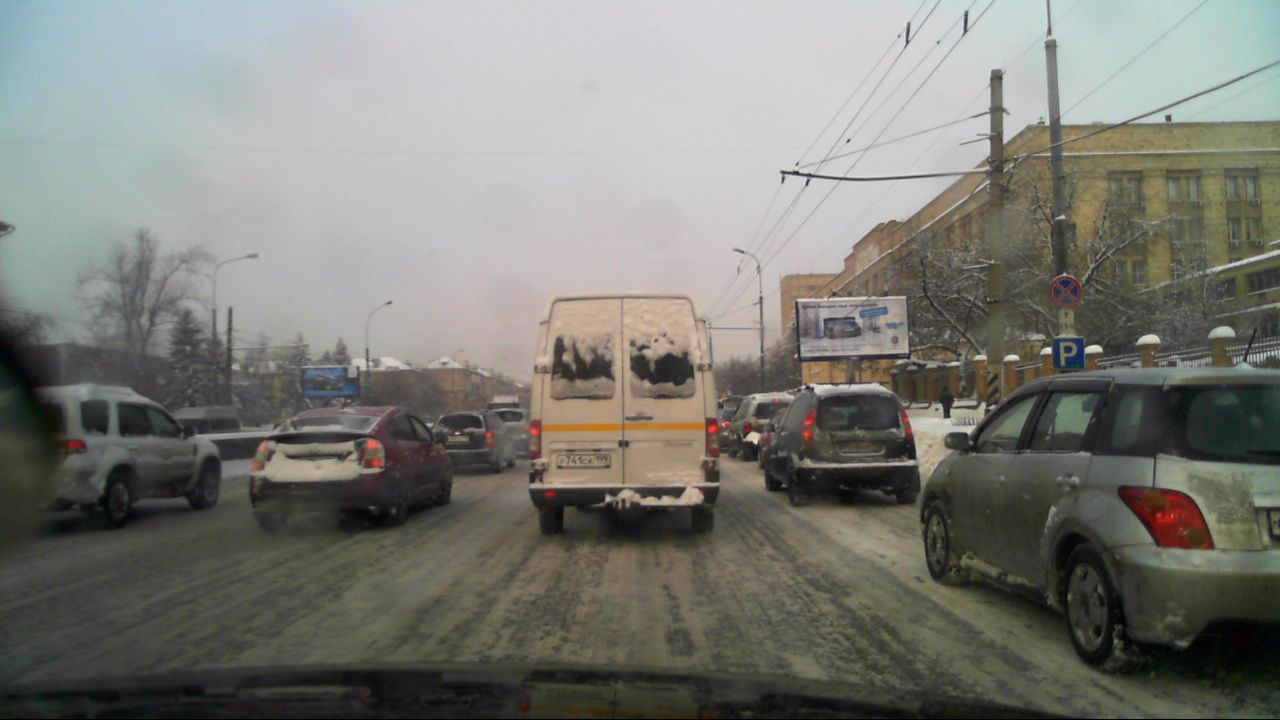No Parking: (1048, 270, 1082, 308)
